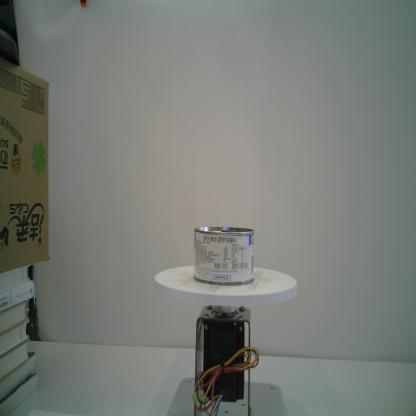Canned Food: (192, 224, 255, 285)
